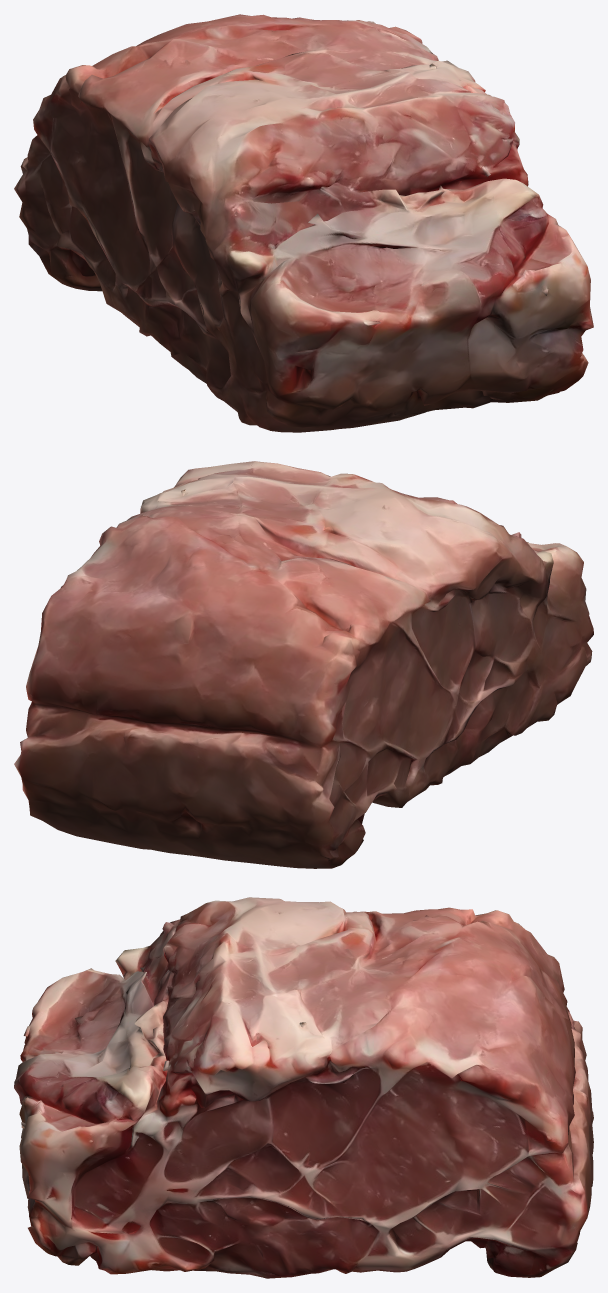
The model's file is tripo_convert_d73ed4ad-53a6-4a3e-b125-ca52826f29df.fbx.
The picture shows the model from 3 angles, top to bottom: view 1: azimuth 30°, elevation 25°; view 2: azimuth 150°, elevation 25°; view 3: azimuth 270°, elevation 25°; orthographic projection.
Parts seen in each view (by area): view 1: tripo_node_d73ed4ad; view 2: tripo_node_d73ed4ad; view 3: tripo_node_d73ed4ad.
Part boxes in pixels (x1,y1,x2,y2): tripo_node_d73ed4ad: (14, 14, 593, 432); tripo_node_d73ed4ad: (14, 461, 593, 868); tripo_node_d73ed4ad: (14, 897, 593, 1278).
Size of the model in its own units: 0.6497 by 0.5276 by 1.
1 material, 1 textured.
